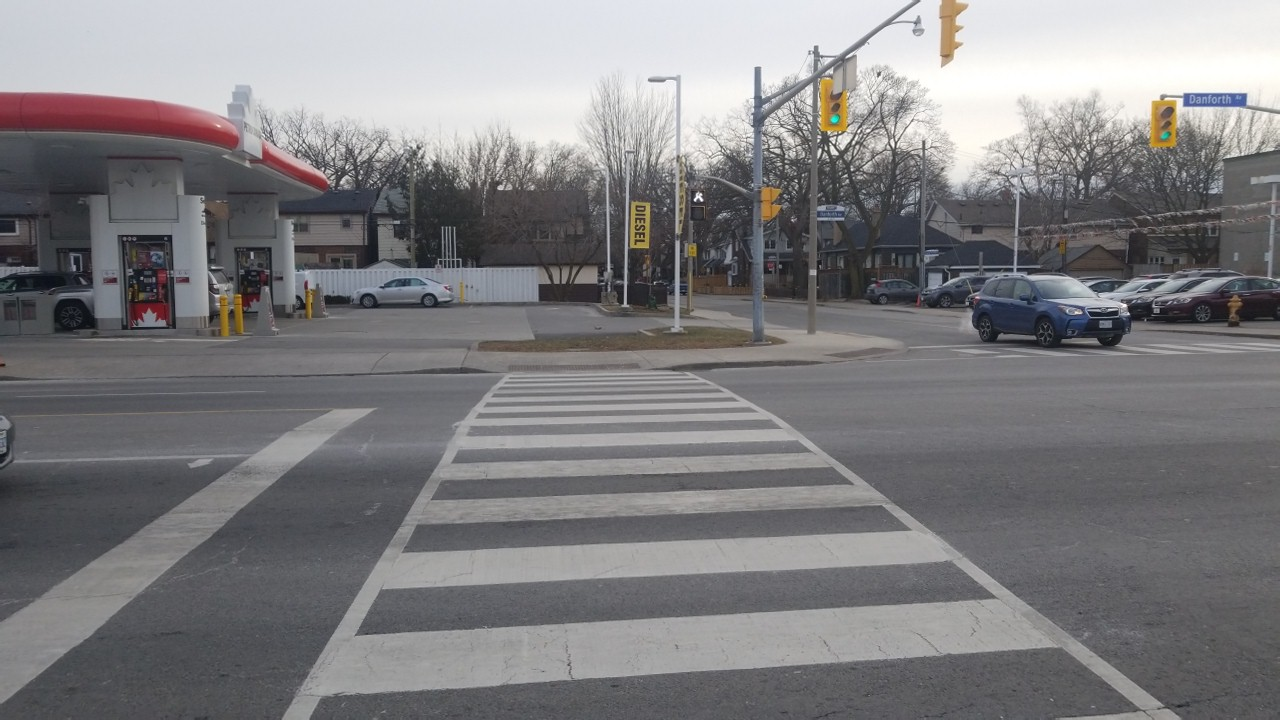light: (687, 185, 709, 224)
